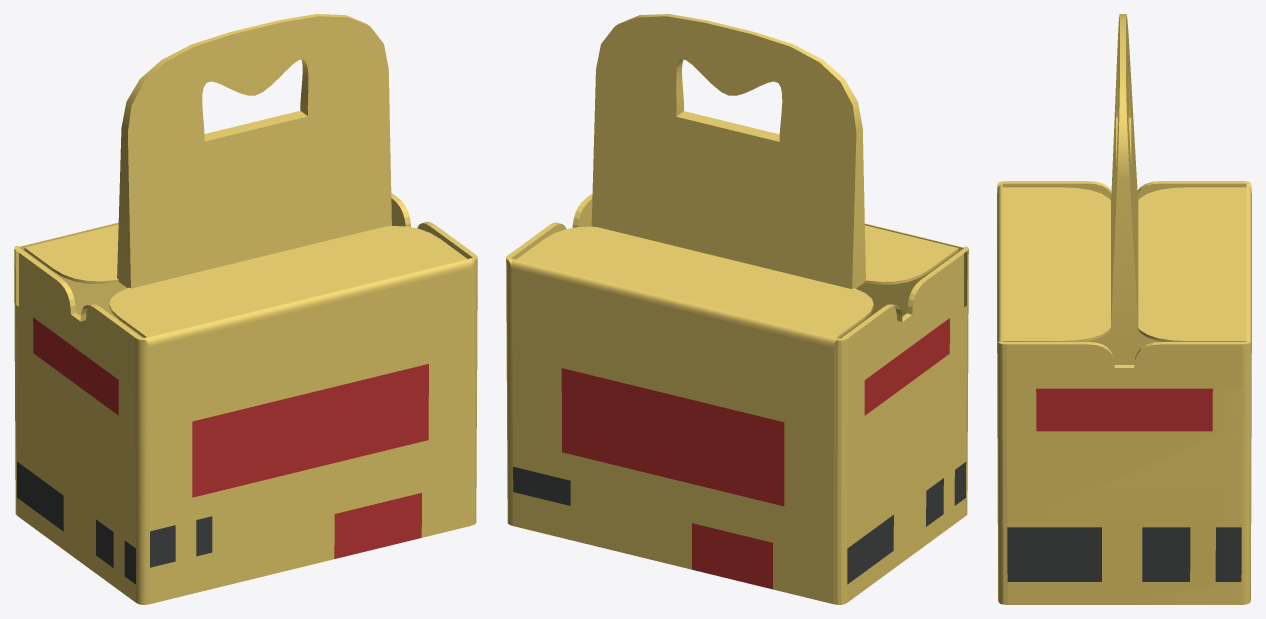
Rendered from P_pack_bouteille.fbx.
The picture shows the model from 3 angles, left to right: view 1: azimuth 30°, elevation 25°; view 2: azimuth 150°, elevation 25°; view 3: azimuth 270°, elevation 25°; orthographic projection.
Visible parts, largest first — view 1: Box001; view 2: Box001; view 3: Box001.
Part boxes in pixels (x1,y1,x2,y2): Box001: (14, 14, 477, 604); Box001: (506, 14, 968, 604); Box001: (997, 14, 1251, 604).
Bounding box in the file's own units: 9.34 × 12.82 × 6.15.
